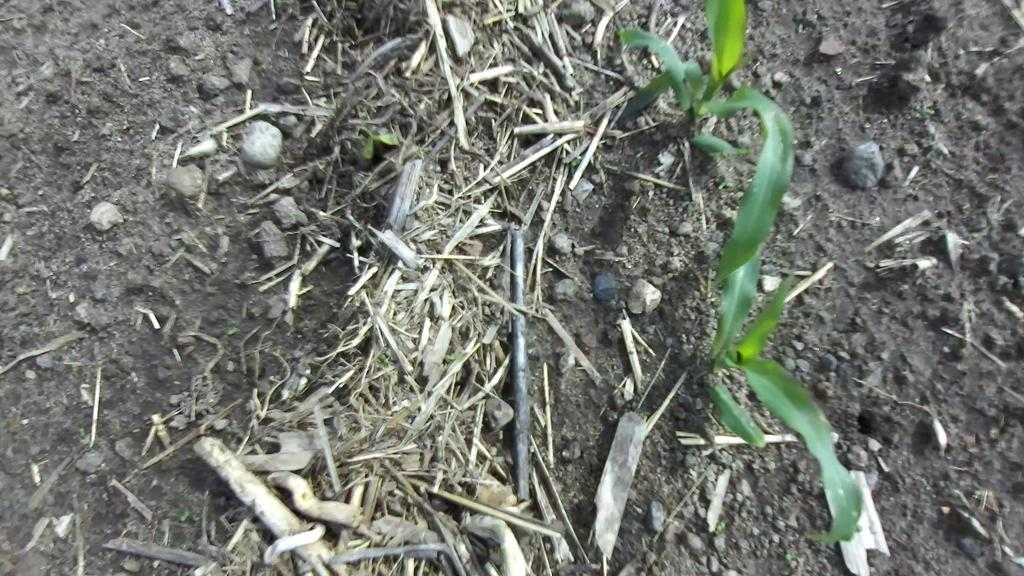BroWeed: (12, 58, 60, 103), (354, 116, 401, 160), (950, 296, 982, 326), (0, 184, 18, 203), (715, 178, 734, 190), (97, 124, 114, 137), (177, 508, 191, 523), (916, 105, 935, 116), (118, 118, 131, 131), (226, 325, 241, 336), (443, 352, 456, 364), (378, 353, 390, 365), (715, 521, 726, 534), (570, 157, 582, 168), (783, 549, 793, 561), (79, 427, 86, 437), (797, 23, 804, 33), (643, 415, 647, 421)
Maize: (667, 236, 872, 567)
